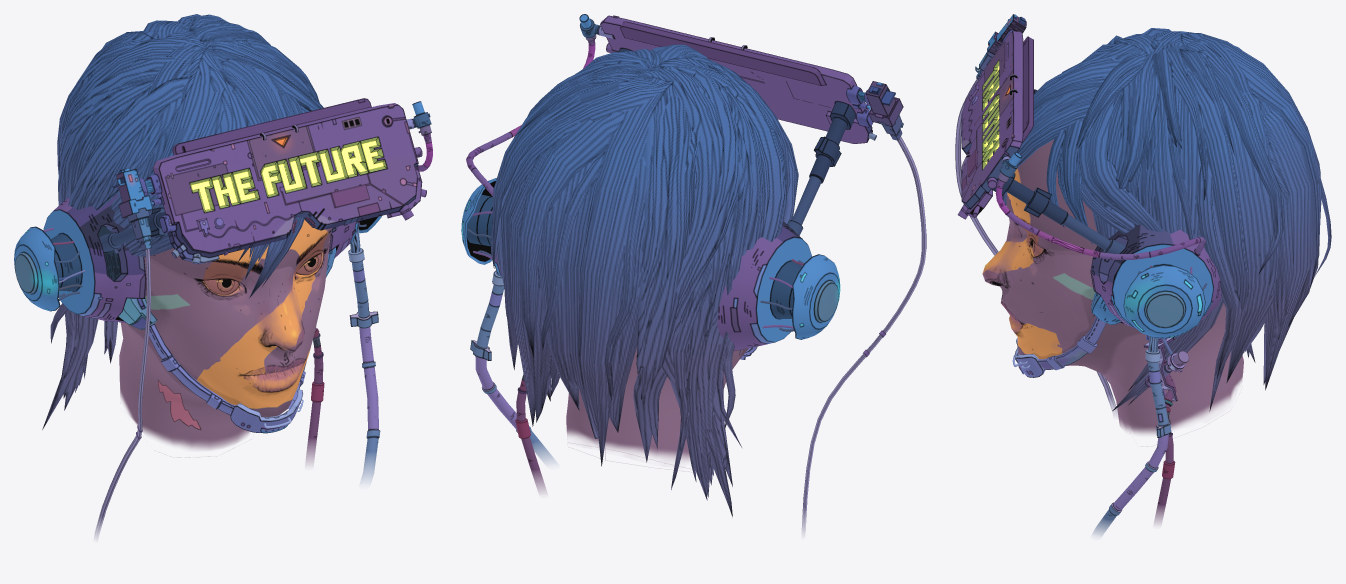
Rendered from futureface.glb.
The picture shows the model from 3 angles, left to right: view 1: azimuth 30°, elevation 25°; view 2: azimuth 150°, elevation 25°; view 3: azimuth 270°, elevation 25°; orthographic projection. The views are drawn at different scales.
Parts seen in each view (by area): view 1: Object_7, Object_3, Object_2, Object_8, Object_5, Object_4; view 2: Object_3, Object_7, Object_8, Object_4, Object_2; view 3: Object_3, Object_7, Object_2, Object_4, Object_8, Object_5.
Part boxes in pixels (box(x1,y1,x2,y2)): Object_7: box(14, 98, 432, 538); Object_3: box(42, 14, 323, 429); Object_2: box(117, 159, 331, 457); Object_8: box(19, 104, 422, 482); Object_5: box(189, 137, 387, 212); Object_4: box(143, 15, 268, 280); Object_3: box(491, 44, 798, 516); Object_7: box(461, 14, 926, 535); Object_8: box(467, 18, 903, 493); Object_4: box(518, 55, 705, 357); Object_2: box(566, 346, 748, 471); Object_3: box(1002, 28, 1331, 410); Object_7: box(955, 14, 1221, 437); Object_2: box(982, 139, 1243, 446); Object_4: box(1034, 36, 1320, 411); Object_8: box(965, 14, 1207, 536); Object_5: box(982, 60, 999, 169).
Size of the model in its own units: 18.02 by 24.55 by 17.51.
Materials: 4 (4 with a texture image).
